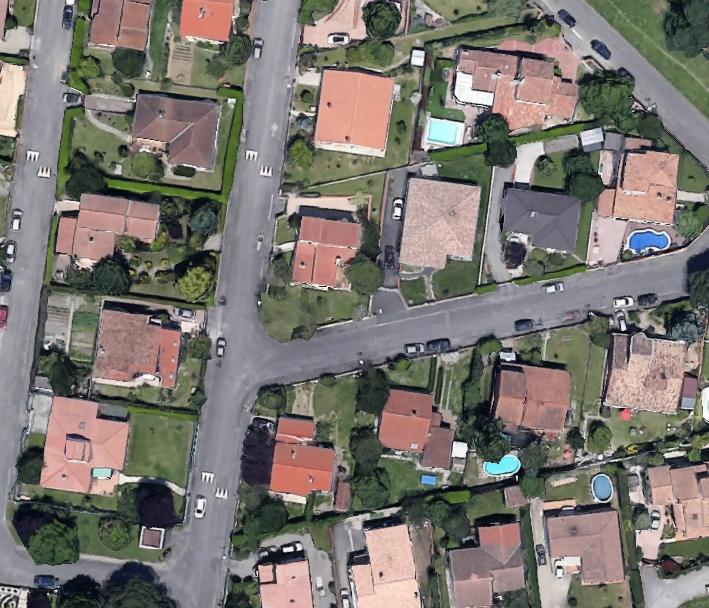maison: (445, 43, 583, 142), (53, 190, 160, 275), (397, 176, 482, 272), (593, 133, 681, 223), (92, 308, 182, 388), (128, 93, 221, 169), (313, 68, 393, 156), (497, 185, 582, 253), (291, 217, 361, 289)
